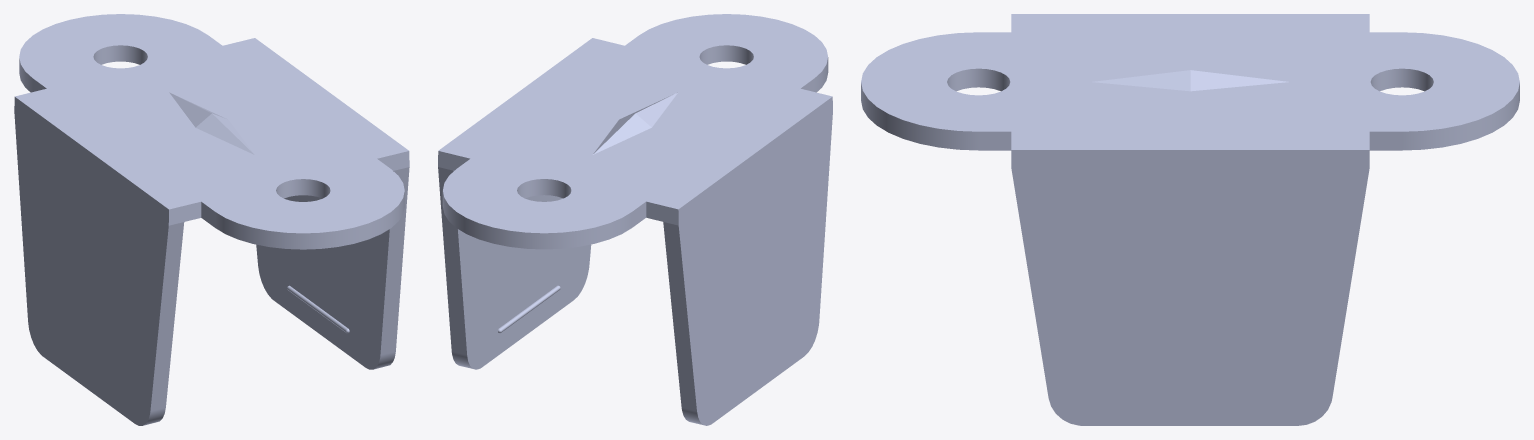
The model's file is Lane Guide.fbx.
3 renders of one model, left to right at view 1: azimuth 30°, elevation 25°; view 2: azimuth 150°, elevation 25°; view 3: azimuth 270°, elevation 25°, orthographic. The views are drawn at different scales.
Visible parts, largest first — view 1: Lane Guide; view 2: Lane Guide; view 3: Lane Guide.
Boxes of the visible parts, left/top/right/bottom form: Lane Guide: left=14, top=14, right=409, bottom=425; Lane Guide: left=438, top=14, right=832, bottom=425; Lane Guide: left=861, top=14, right=1519, bottom=425.
Bounding box in the file's own units: 2.22 × 2.13 × 4.45.
